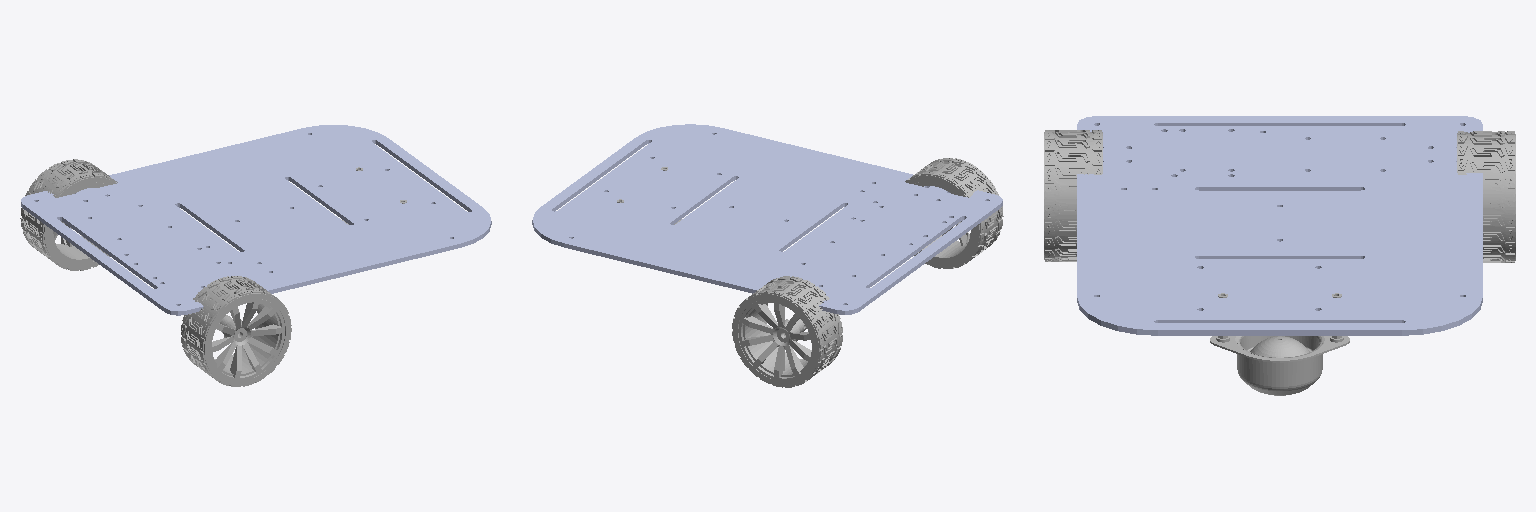
robot.urdf — diff_robot:
<?xml version="1.0"?>
<!-- This URDF was automatically created by SolidWorks to URDF Exporter! Originally created by [author] ([email redacted]) 
     Commit Version: 1.6.0-4-g7f85cfe  Build Version: 1.6.7995.38578
     For more information, please see http://wiki.ros.org/sw_urdf_exporter -->
<robot
  name="diff_robot">
  <link
    name="base_footprint">
    <inertial>
      <origin
        xyz="0.0788647425097158 5.6870374027268E-05 0.0540488105635751"
        rpy="0 0 0" />
      <mass
        value="0.142039932145577" />
      <inertia
        ixx="0.000473929554425108"
        ixy="3.63594584335061E-07"
        ixz="-4.83600310606048E-22"
        iyy="0.000703610142257483"
        iyz="-2.50131576332158E-23"
        izz="0.00117732663678437" />
    </inertial>
    <visual>
      <origin
        xyz="0 0 0"
        rpy="0 0 0" />
      <geometry>
        <mesh
          filename="package://diff_robot/meshes/base_footprint.STL" />
      </geometry>
      <material
        name="">
        <color
          rgba="0.792156862745098 0.819607843137255 0.933333333333333 1" />
      </material>
    </visual>
    <collision>
      <origin
        xyz="0 0 0"
        rpy="0 0 0" />
      <geometry>
        <mesh
          filename="package://diff_robot/meshes/base_footprint.STL" />
      </geometry>
    </collision>
  </link>
  <link
    name="base_link">
    <inertial>
      <origin
        xyz="0.0640831914396795 0.000219026756431262 0.0392009847517949"
        rpy="0 0 0" />
      <mass
        value="0.440554283125895" />
      <inertia
        ixx="0.00100581302820588"
        ixy="2.61463713369735E-07"
        ixz="6.81290790279992E-09"
        iyy="0.00147211347451393"
        iyz="-4.63443404454339E-07"
        izz="0.00246647282666342" />
    </inertial>
    <visual>
      <origin
        xyz="0 0 0"
        rpy="0 0 0" />
      <geometry>
        <mesh
          filename="package://diff_robot/meshes/base_link.STL" />
      </geometry>
      <material
        name="">
        <color
          rgba="0.792156862745098 0.819607843137255 0.933333333333333 1" />
      </material>
    </visual>
    <collision>
      <origin
        xyz="0 0 0"
        rpy="0 0 0" />
      <geometry>
        <mesh
          filename="package://diff_robot/meshes/base_link.STL" />
      </geometry>
    </collision>
  </link>
  <joint
    name="base_link_joint"
    type="fixed">
    <origin
      xyz="0.000218079198520476 0 0.0325488105635752"
      rpy="0 0 0" />
    <parent
      link="base_footprint" />
    <child
      link="base_link" />
    <axis
      xyz="0 0 0" />
  </joint>
  <link
    name="left_wheel">
    <inertial>
      <origin
        xyz="-0.000448319094040006 -6.53372727473581E-05 0.0152910495758897"
        rpy="0 0 0" />
      <mass
        value="0.0790315658072254" />
      <inertia
        ixx="2.82202271152179E-05"
        ixy="5.0765501243704E-09"
        ixz="-4.3219991782609E-10"
        iyy="2.81809290516973E-05"
        iyz="1.43497425082393E-10"
        izz="4.6080462635565E-05" />
    </inertial>
    <visual>
      <origin
        xyz="0 0 0"
        rpy="0 0 0" />
      <geometry>
        <mesh
          filename="package://diff_robot/meshes/left_wheel.STL" />
      </geometry>
      <material
        name="">
        <color
          rgba="0.752941176470588 0.752941176470588 0.752941176470588 1" />
      </material>
    </visual>
    <collision>
      <origin
        xyz="0 0 0"
        rpy="0 0 0" />
      <geometry>
        <mesh
          filename="package://diff_robot/meshes/left_wheel.STL" />
      </geometry>
    </collision>
  </link>
  <joint
    name="left_wheel_joint"
    type="continuous">
    <origin
      xyz="0 0.1015 0"
      rpy="1.5708 0 3.1416" />
    <parent
      link="base_link" />
    <child
      link="left_wheel" />
    <axis
      xyz="0 0 1" />
  </joint>
  <link
    name="right_wheel">
    <inertial>
      <origin
        xyz="-0.000536570749193782 -0.000884958577049552 -0.0152910495757591"
        rpy="0 0 0" />
      <mass
        value="0.0790315658065018" />
      <inertia
        ixx="2.82197955972771E-05"
        ixy="6.52249705915878E-09"
        ixz="-3.73114762562389E-10"
        iyy="2.81813605693893E-05"
        iyz="-2.61100893770204E-10"
        izz="4.60804626355091E-05" />
    </inertial>
    <visual>
      <origin
        xyz="0 0 0"
        rpy="0 0 0" />
      <geometry>
        <mesh
          filename="package://diff_robot/meshes/right_wheel.STL" />
      </geometry>
      <material
        name="">
        <color
          rgba="0.752941176470588 0.752941176470588 0.752941176470588 1" />
      </material>
    </visual>
    <collision>
      <origin
        xyz="0 0 0"
        rpy="0 0 0" />
      <geometry>
        <mesh
          filename="package://diff_robot/meshes/right_wheel.STL" />
      </geometry>
    </collision>
  </link>
  <joint
    name="right_wheel_joint"
    type="continuous">
    <origin
      xyz="-0.0001512 -0.1015 0.00082881"
      rpy="1.5708 0 3.1416" />
    <parent
      link="base_link" />
    <child
      link="right_wheel" />
    <axis
      xyz="0 0 1" />
  </joint>
  <link
    name="caster_wheel">
    <inertial>
      <origin
        xyz="7.00283429022619E-08 -1.38777878078145E-17 0.00377839370196904"
        rpy="0 0 0" />
      <mass
        value="0.122994969459015" />
      <inertia
        ixx="1.77978350937237E-05"
        ixy="-7.57592131018522E-21"
        ixz="4.71400888449697E-20"
        iyy="1.61740883178197E-05"
        iyz="2.49222763647367E-21"
        izz="2.49528625086979E-05" />
    </inertial>
    <visual>
      <origin
        xyz="0 0 0"
        rpy="0 0 0" />
      <geometry>
        <mesh
          filename="package://diff_robot/meshes/caster_wheel.STL" />
      </geometry>
      <material
        name="">
        <color
          rgba="0.752941176470588 0.752941176470588 0.752941176470588 1" />
      </material>
    </visual>
    <collision>
      <origin
        xyz="0 0 0"
        rpy="0 0 0" />
      <geometry>
        <mesh
          filename="package://diff_robot/meshes/caster_wheel.STL" />
      </geometry>
    </collision>
  </link>
  <joint
    name="caster_wheel_joint"
    type="fixed">
    <origin
      xyz="0.165 0 -0.0173"
      rpy="0 0 0" />
    <parent
      link="base_link" />
    <child
      link="caster_wheel" />
    <axis
      xyz="0 0 0" />
  </joint>
  <gazebo reference="base_link">
    <material>Gazebo/Blue</material>
  </gazebo>
  <gazebo reference="add_wheel">
  	<mu1>0.0</mu1>
  	<mu2>0.0</mu2>
  	<kp>10000.0</kp>
  	<kd>1.0</kd>
  </gazebo>

  <gazebo>
    <plugin name="turtlebot3_diff_drive" filename="libgazebo_ros_diff_drive.so">

      <ros>
        <!-- <namespace>/tb3</namespace> -->
      </ros>
      <update_rate>30</update_rate>
      
      <!-- wheels -->
      <left_joint>left_wheel_joint</left_joint>
      <right_joint>right_wheel_joint</right_joint>

      <!-- kinematics: Adjust -->
      <wheel_separation>0.204</wheel_separation> <!-- meters -->
      <wheel_diameter>0.06</wheel_diameter>		<!-- meters -->

      <!-- limits: Adjust -->
      <max_wheel_torque>0.216</max_wheel_torque> <!-- N·m -->
      <max_wheel_acceleration>12.0</max_wheel_acceleration> <!-- rad/s² -->

      <command_topic>cmd_vel</command_topic>

      <!-- output -->
      <publish_odom>true</publish_odom>
      <publish_odom_tf>true</publish_odom_tf>
      <publish_wheel_tf>true</publish_wheel_tf>

      <odometry_topic>odom</odometry_topic>
      <odometry_frame>odom</odometry_frame>
      <robot_base_frame>base_footprint</robot_base_frame>

    </plugin>

    <plugin name="dif_robot_joint_state" filename="libgazebo_ros_joint_state_publisher.so">
      <ros>
        <!-- <namespace>/tb3</namespace> -->
        <remapping>~/out:=joint_states</remapping>
      </ros>
      <update_rate>30</update_rate>
      <joint_name>left_wheel_joint</joint_name>
      <joint_name>right_wheel_joint</joint_name>
      <joint_name>caster_wheel_joint</joint_name>

    </plugin>
    </gazebo>
</robot>

--- Render facts (derived) ---
Views: 3 orthographic renders of the robot side by side, from view 1: azimuth 30°, elevation 25°; view 2: azimuth 150°, elevation 25°; view 3: azimuth 270°, elevation 25°.
Robot: diff_robot — 5 links, 4 joints (2 continuous, 2 fixed); root link base_footprint; default pose: all joints at 0.
Visible links, largest first — view 1: base_footprint, right_wheel, left_wheel; view 2: base_footprint, left_wheel, right_wheel; view 3: base_footprint, right_wheel, left_wheel, caster_wheel.
Boxes of the visible links, left/top/right/bottom form: base_footprint: left=21, top=125, right=491, bottom=315; right_wheel: left=181, top=276, right=291, bottom=386; left_wheel: left=20, top=159, right=117, bottom=270; base_footprint: left=532, top=124, right=1002, bottom=314; left_wheel: left=732, top=276, right=842, bottom=387; right_wheel: left=905, top=158, right=1003, bottom=268; base_footprint: left=1077, top=116, right=1482, bottom=335; right_wheel: left=1044, top=130, right=1102, bottom=261; left_wheel: left=1457, top=131, right=1515, bottom=262; caster_wheel: left=1210, top=293, right=1349, bottom=395.
Size in the robot's own frame: 0.25 by 0.232 by 0.0658 metres.
Meshes: 5 distinct files referenced, 4 mesh visuals loaded (4 binary STL); not drawn: 1 (reference not matched to a file when rendering).